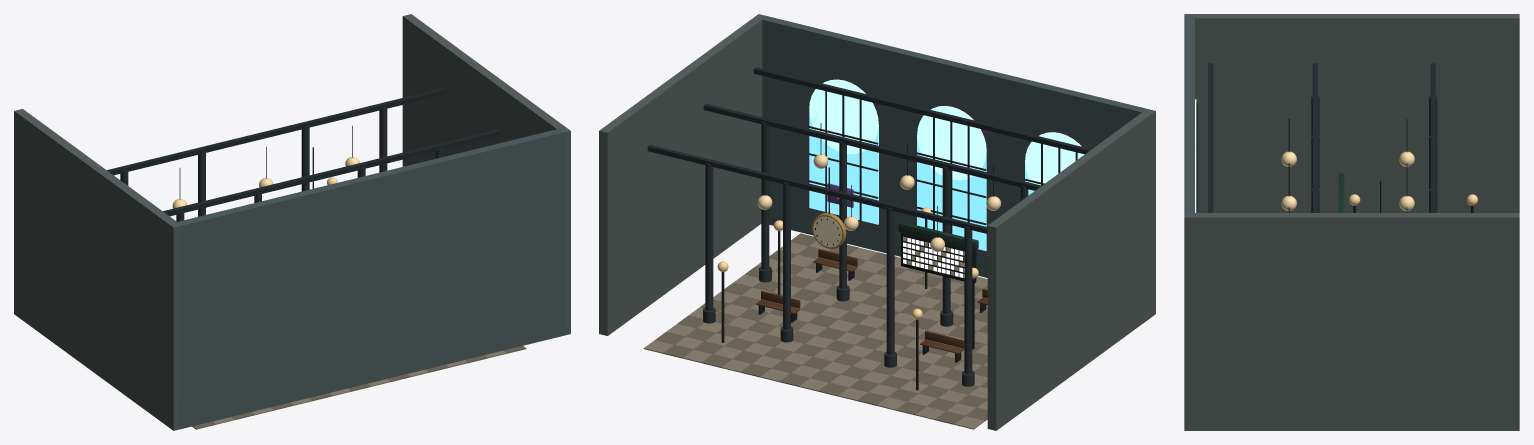
Rendered from Concourse.fbx.
3 renders of one model, left to right at view 1: azimuth 30°, elevation 25°; view 2: azimuth 150°, elevation 25°; view 3: azimuth 270°, elevation 25°, orthographic. The views are drawn at different scales.
Visible parts, largest first — view 1: Hall, ConcourseFloor; view 2: Hall, ConcourseFloor, DepartureBoard, ConcourseLamps, StationClock; view 3: Hall, ConcourseLamps.
Boxes of the visible parts, x1,y1,x2,y2 form: Hall: (14,14,570,430); ConcourseFloor: (192,346,526,429); Hall: (599,14,1155,430); ConcourseFloor: (643,233,987,429); DepartureBoard: (898,221,978,282); ConcourseLamps: (717,123,1000,390); StationClock: (812,167,846,248); Hall: (1184,14,1519,430); ConcourseLamps: (1281,119,1477,212).
Bounding box in the file's own units: 18.4 × 9.24 × 12.8.
